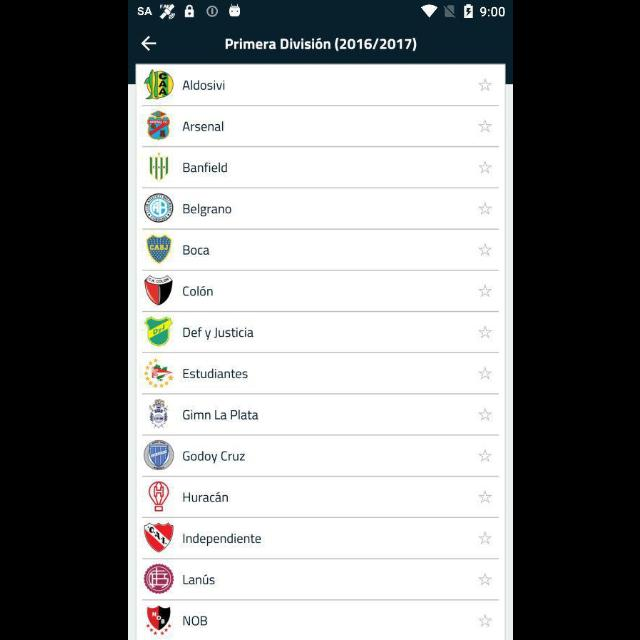icon: (141, 36, 157, 52), (477, 408, 491, 422), (477, 284, 491, 298), (477, 78, 491, 92), (478, 614, 492, 626), (477, 574, 491, 586), (477, 532, 491, 544), (478, 491, 492, 503), (477, 450, 491, 462), (477, 368, 491, 380), (477, 326, 491, 338), (477, 244, 491, 256), (477, 203, 491, 215), (477, 162, 491, 174), (477, 120, 491, 132)
image: (144, 69, 174, 101), (143, 522, 173, 554), (143, 564, 173, 594), (144, 441, 174, 471), (143, 359, 173, 389), (144, 316, 172, 348), (144, 274, 172, 306), (144, 234, 172, 266), (144, 194, 174, 222), (145, 605, 171, 635), (146, 111, 170, 141), (147, 398, 169, 428), (148, 152, 168, 182), (148, 482, 168, 512)
text: (224, 38, 416, 52), (182, 534, 262, 546), (182, 328, 254, 340), (182, 410, 258, 420), (182, 452, 245, 464), (182, 203, 232, 217), (182, 369, 248, 379), (182, 80, 224, 92), (182, 492, 228, 502), (183, 163, 227, 173), (181, 122, 223, 132), (182, 574, 214, 584), (182, 286, 214, 296), (182, 245, 210, 255), (183, 616, 207, 626)
uppertaskbar: (128, 1, 512, 21)
